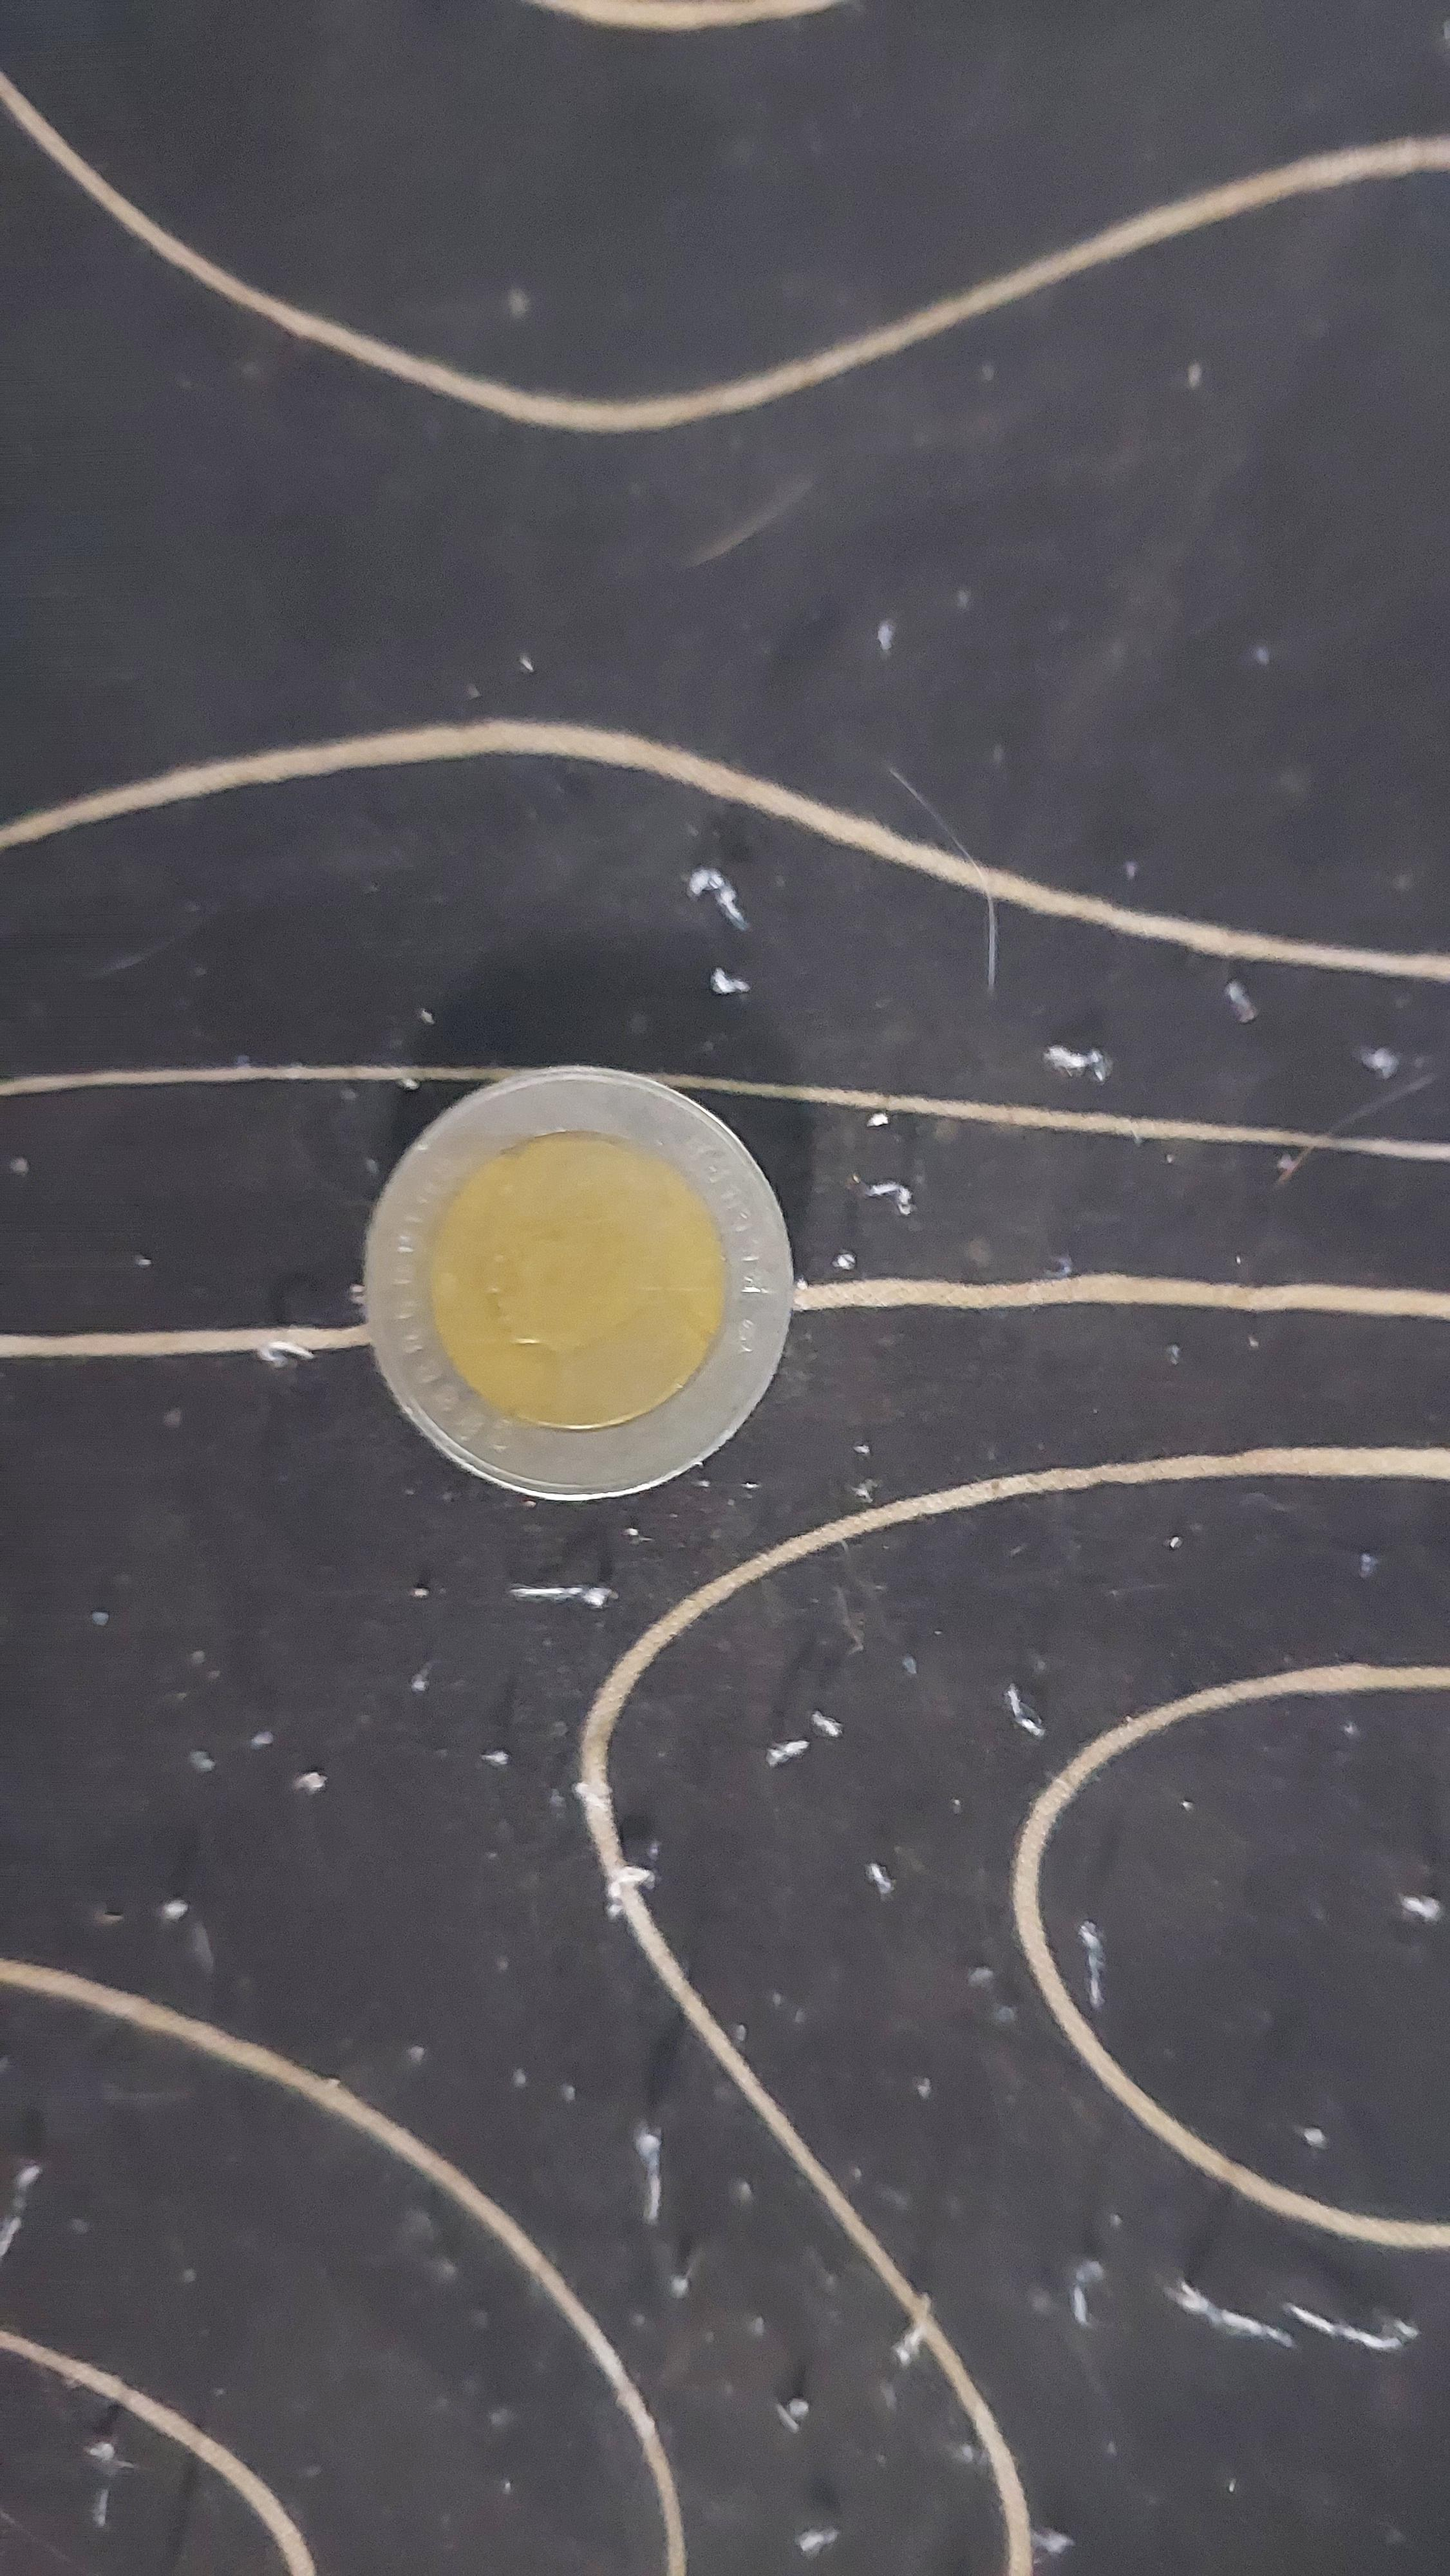10baht: (329, 1021, 925, 1622)
